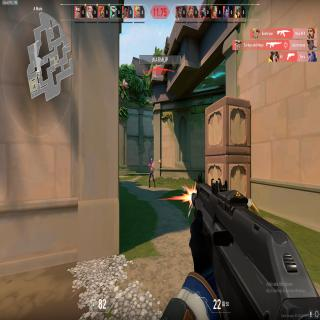ENEMY-BODY: (148, 157, 156, 190)
ENEMY-HEAD: (150, 158, 153, 164)
